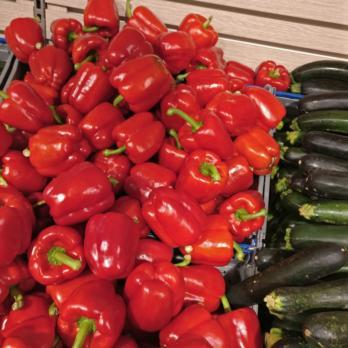Capsicum: (0, 72, 260, 346), (3, 4, 256, 71)
